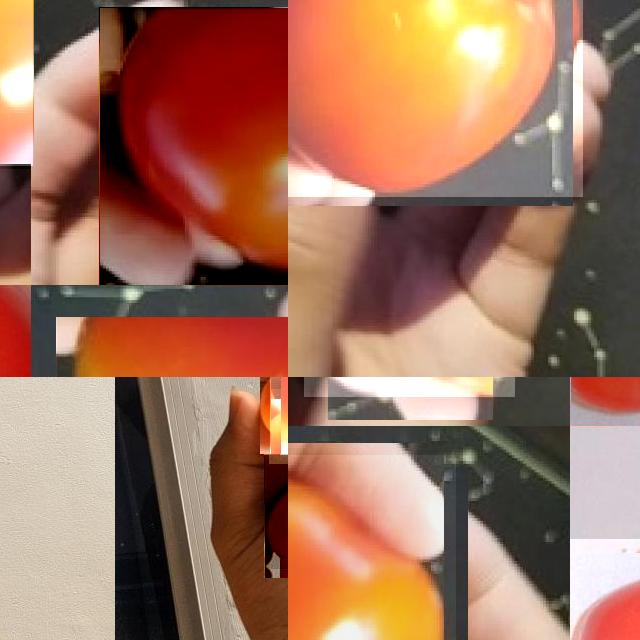Fresh Tomato: (288, 0, 583, 196), (99, 7, 288, 285), (288, 455, 456, 640)
